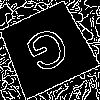G: (22, 24, 77, 83)
